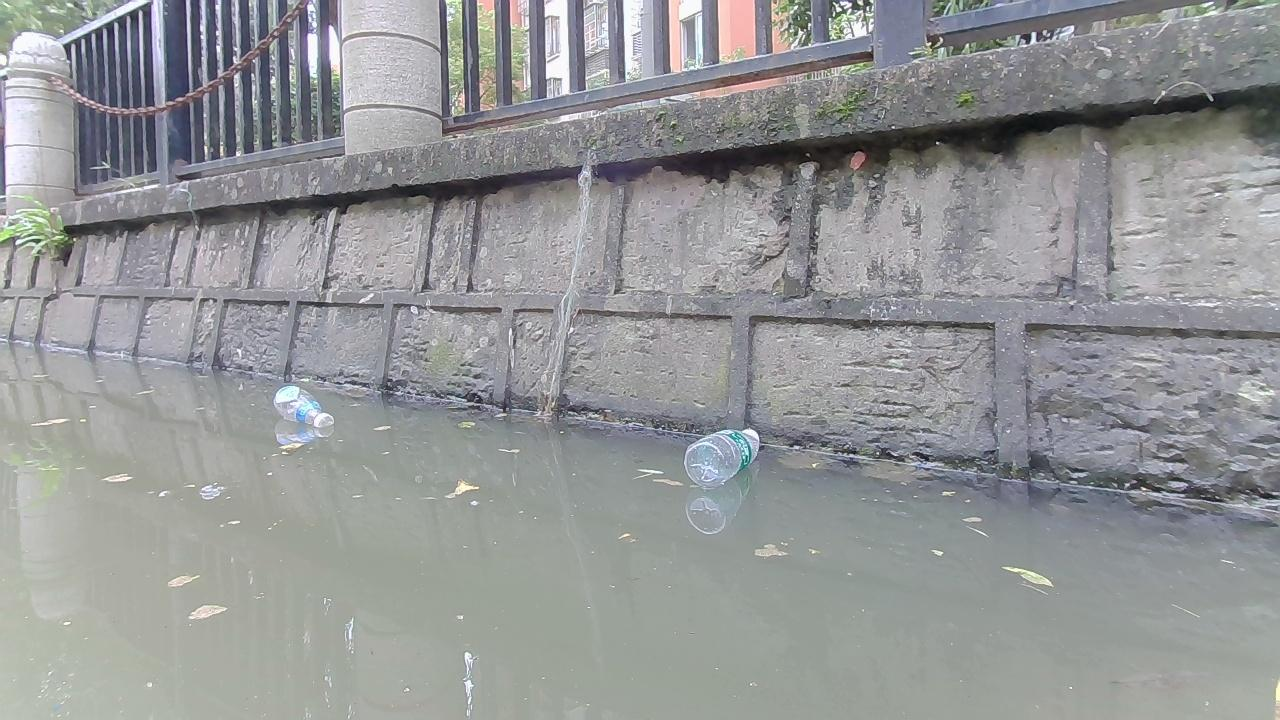bottle: (683, 423, 760, 488), (273, 383, 333, 429)
